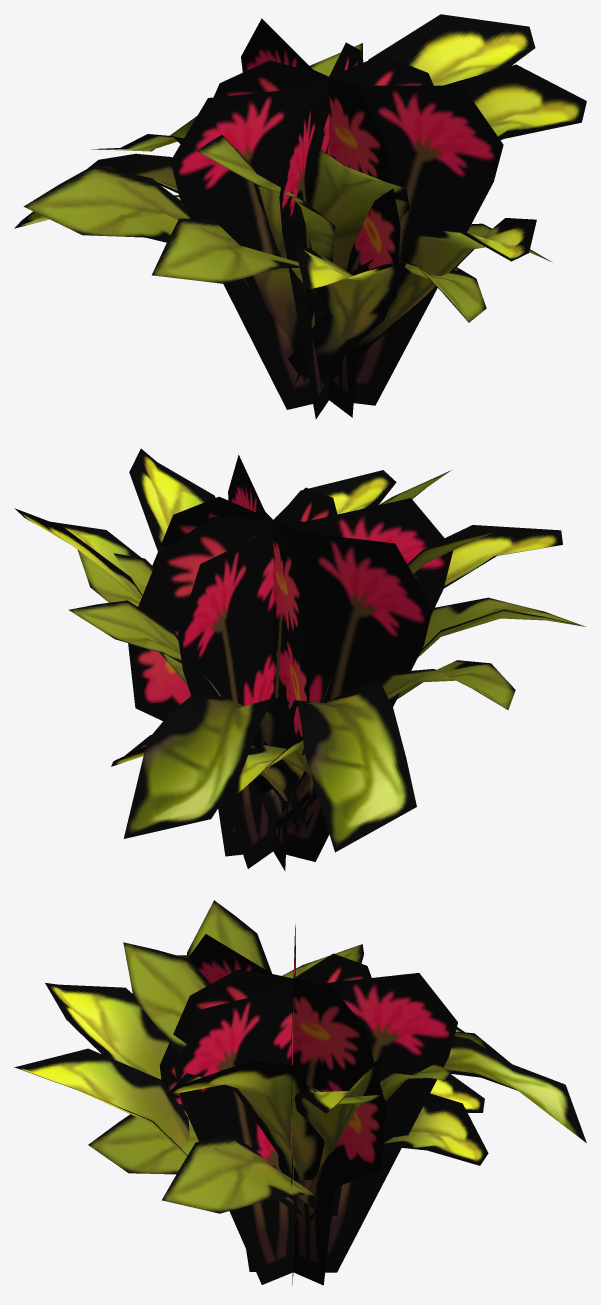
Rendered from SM_FlowersPlant_02.fbx.
3 renders of one model, top to bottom at view 1: azimuth 30°, elevation 25°; view 2: azimuth 150°, elevation 25°; view 3: azimuth 270°, elevation 25°, orthographic. The views are drawn at different scales.
Visible parts, largest first — view 1: SM_FlowersPlant_02_LOD0; view 2: SM_FlowersPlant_02_LOD0; view 3: SM_FlowersPlant_02_LOD0.
Part boxes in pixels (x1=…): SM_FlowersPlant_02_LOD0: x1=14, y1=14, x2=586, y2=418; SM_FlowersPlant_02_LOD0: x1=14, y1=448, x2=585, y2=870; SM_FlowersPlant_02_LOD0: x1=14, y1=900, x2=586, y2=1285.
Size of the model in its own units: 50.7 by 56.03 by 32.63.
1 material, 1 textured.
